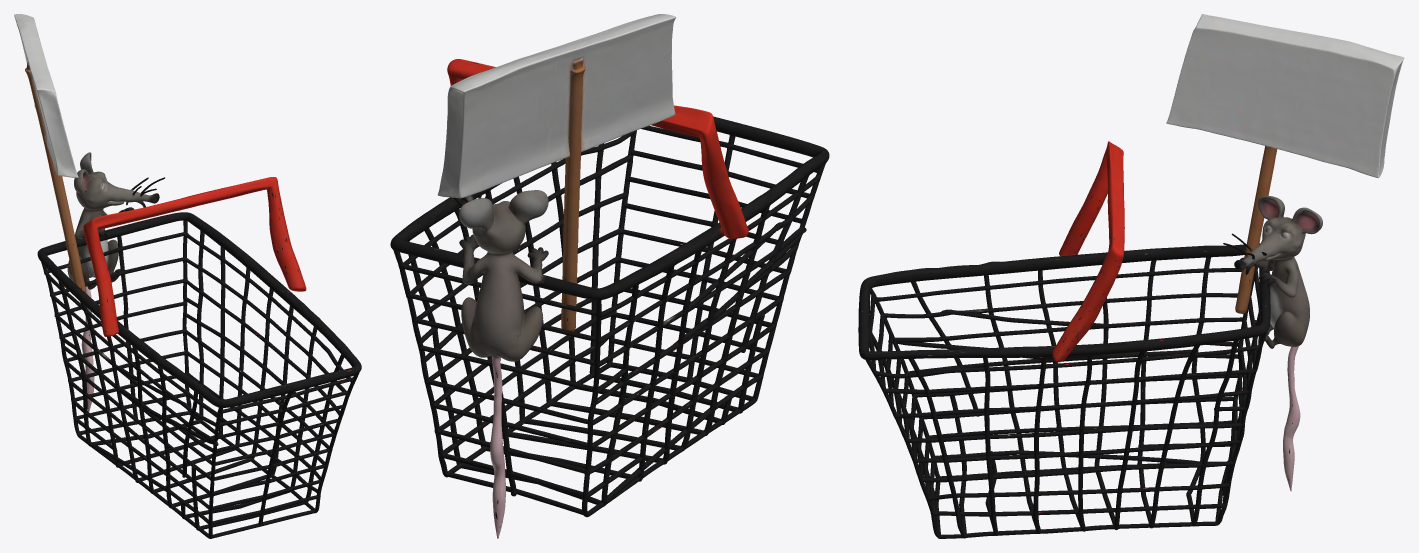
File: lastMouse.glb
3 renders of one model, left to right at view 1: azimuth 30°, elevation 25°; view 2: azimuth 150°, elevation 25°; view 3: azimuth 270°, elevation 25°, orthographic. The views are drawn at different scales.
Parts seen in each view (by area): view 1: tripo_node_9b5130fe; view 2: tripo_node_9b5130fe; view 3: tripo_node_9b5130fe.
Part boxes in pixels (x1,y1,x2,y2): tripo_node_9b5130fe: (14,14,361,538); tripo_node_9b5130fe: (390,14,829,538); tripo_node_9b5130fe: (858,14,1404,538).
Bounding box in the file's own units: 16302 × 28729 × 32767.
1 material, 1 textured.
